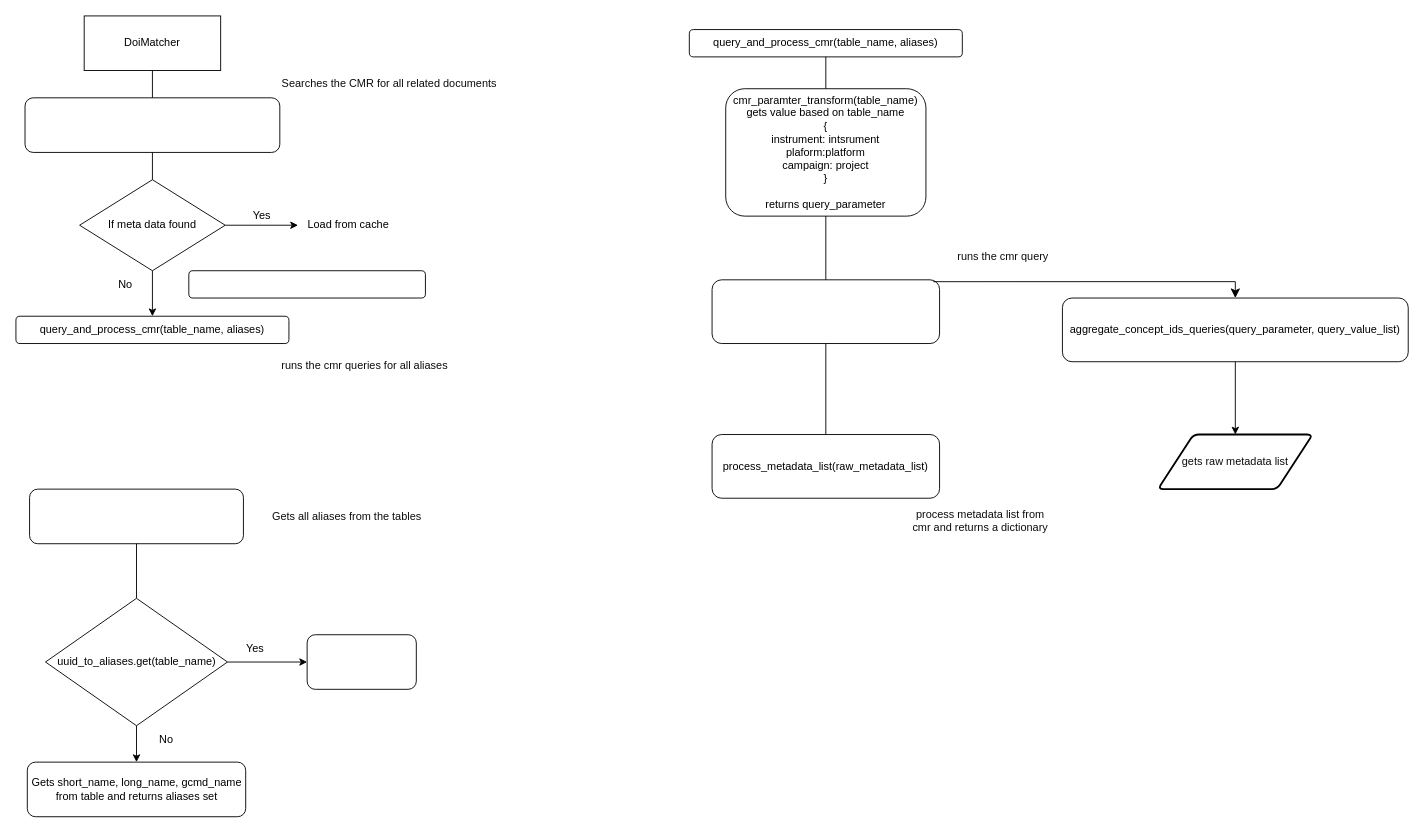
Some shapes in this 1424 by 833 pixel diagram are drawn without their labels. Each missing label, with the box of its shape:
aliases = universal_aliases(table_name, uuid): (188, 270, 425, 298)
bulk_cmr_query(query_parameter, aliases): (711, 279, 940, 344)
generate_recommendation(table_name, uuid): (24, 97, 280, 152)
return aliases: (306, 634, 416, 689)
universal_aliases(table_name, uuid): (29, 488, 243, 544)
